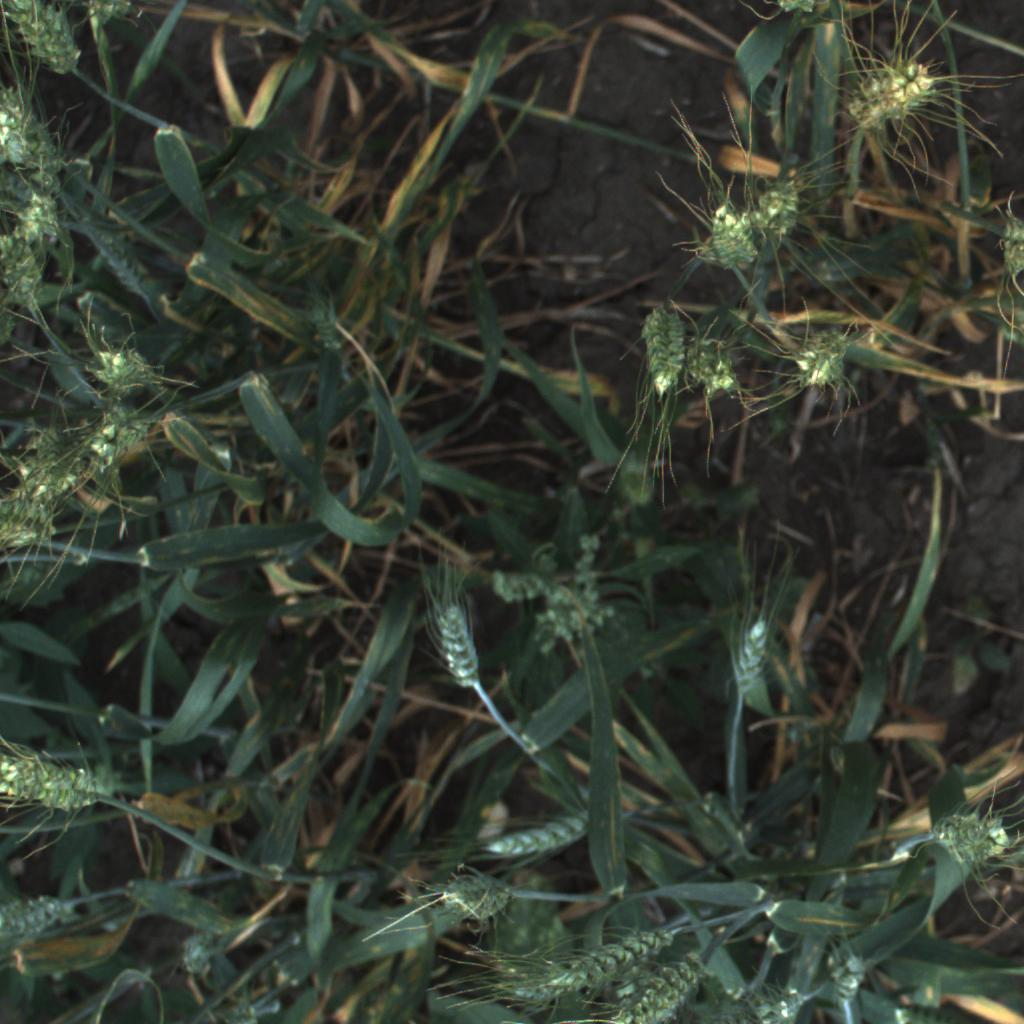0-0: (529, 917, 693, 1000), (0, 741, 136, 830), (841, 48, 948, 144), (417, 569, 490, 696), (605, 946, 723, 1024), (915, 803, 1023, 880), (2, 0, 93, 80), (81, 404, 167, 487), (0, 83, 71, 179), (474, 809, 599, 859), (782, 322, 862, 399), (696, 190, 762, 280), (723, 604, 779, 702), (634, 301, 693, 394), (425, 866, 517, 925), (0, 884, 80, 950), (746, 168, 813, 246), (0, 435, 85, 496), (88, 340, 164, 403), (694, 322, 746, 406), (9, 185, 73, 252), (1, 224, 49, 313), (821, 937, 872, 1019), (1, 476, 66, 540), (993, 198, 1024, 308), (734, 978, 808, 1024), (83, 0, 136, 39), (762, 1, 835, 23)
